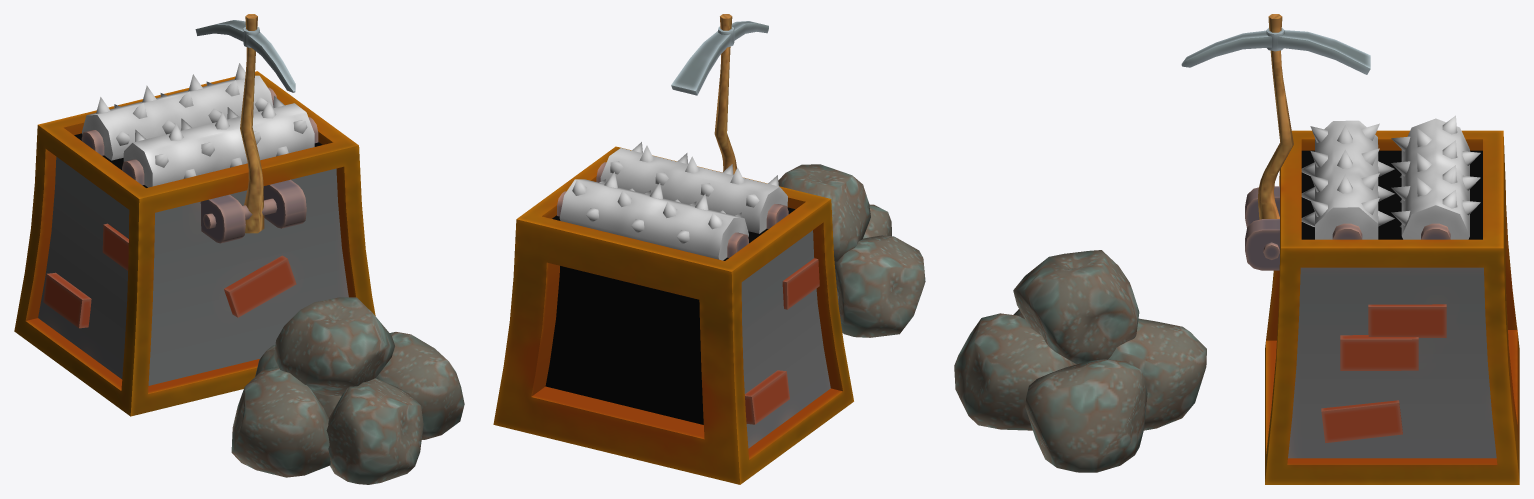
Rendered from mine.fbx.
3 renders of one model, left to right at view 1: azimuth 30°, elevation 25°; view 2: azimuth 150°, elevation 25°; view 3: azimuth 270°, elevation 25°, orthographic. The views are drawn at different scales.
Visible parts, largest first — view 1: rockLP.006_Baked, rockLP.007_Baked, Cylinder.005_Baked, Cylinder.006_Baked, Plane.003_Baked; view 2: rockLP.006_Baked, rockLP.007_Baked, Cylinder.006_Baked, Cylinder.005_Baked, Plane.003_Baked; view 3: rockLP.006_Baked, rockLP.007_Baked, Cylinder.005_Baked, Cylinder.006_Baked, Plane.003_Baked.
Boxes of the visible parts, x1,y1,x2,y2 form: rockLP.006_Baked: [14, 71, 375, 416]; rockLP.007_Baked: [231, 297, 464, 484]; Cylinder.005_Baked: [123, 96, 314, 187]; Cylinder.006_Baked: [82, 63, 273, 160]; Plane.003_Baked: [195, 14, 295, 233]; rockLP.006_Baked: [493, 146, 853, 484]; rockLP.007_Baked: [778, 164, 925, 337]; Cylinder.006_Baked: [559, 172, 748, 260]; Cylinder.005_Baked: [600, 142, 787, 233]; Plane.003_Baked: [671, 14, 768, 174]; rockLP.006_Baked: [1245, 130, 1519, 484]; rockLP.007_Baked: [954, 250, 1206, 472]; Cylinder.005_Baked: [1301, 120, 1394, 239]; Cylinder.006_Baked: [1391, 115, 1480, 239]; Plane.003_Baked: [1181, 14, 1370, 219].
Size of the model in its own units: 96 by 134 by 170.
Materials: 1 (1 with a texture image).
